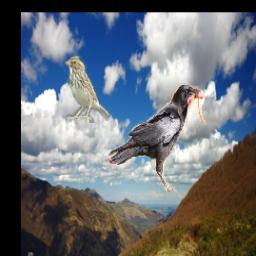Crow: (107, 81, 209, 193)
Sparrow: (66, 55, 110, 123)
